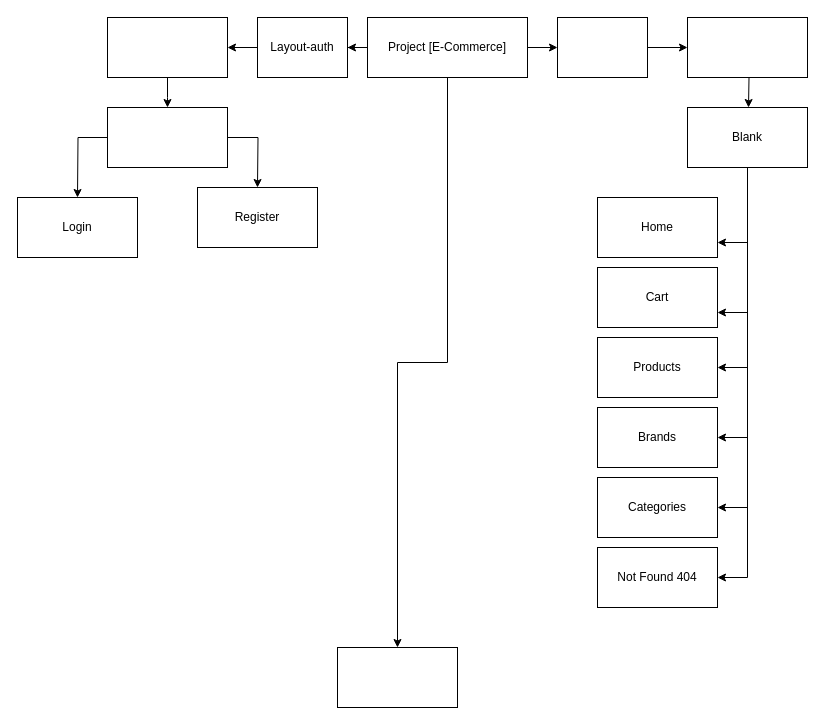
The diagram is 825 pixels wide and 725 high, and some of its shapes have lost their labels. Each missing label, with the box of its shape:
Authantication: (106, 106, 228, 168)
Footer: (336, 646, 458, 708)
Layout-blank: (556, 16, 648, 78)
Navbar-auth: (106, 16, 228, 78)
Navbar-blank: (686, 16, 808, 78)
